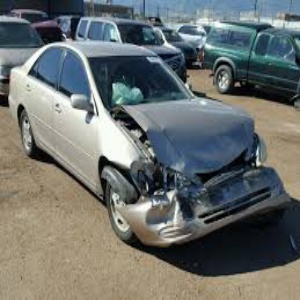bonnet: (131, 100, 257, 161)
bumper: (116, 165, 286, 246)
